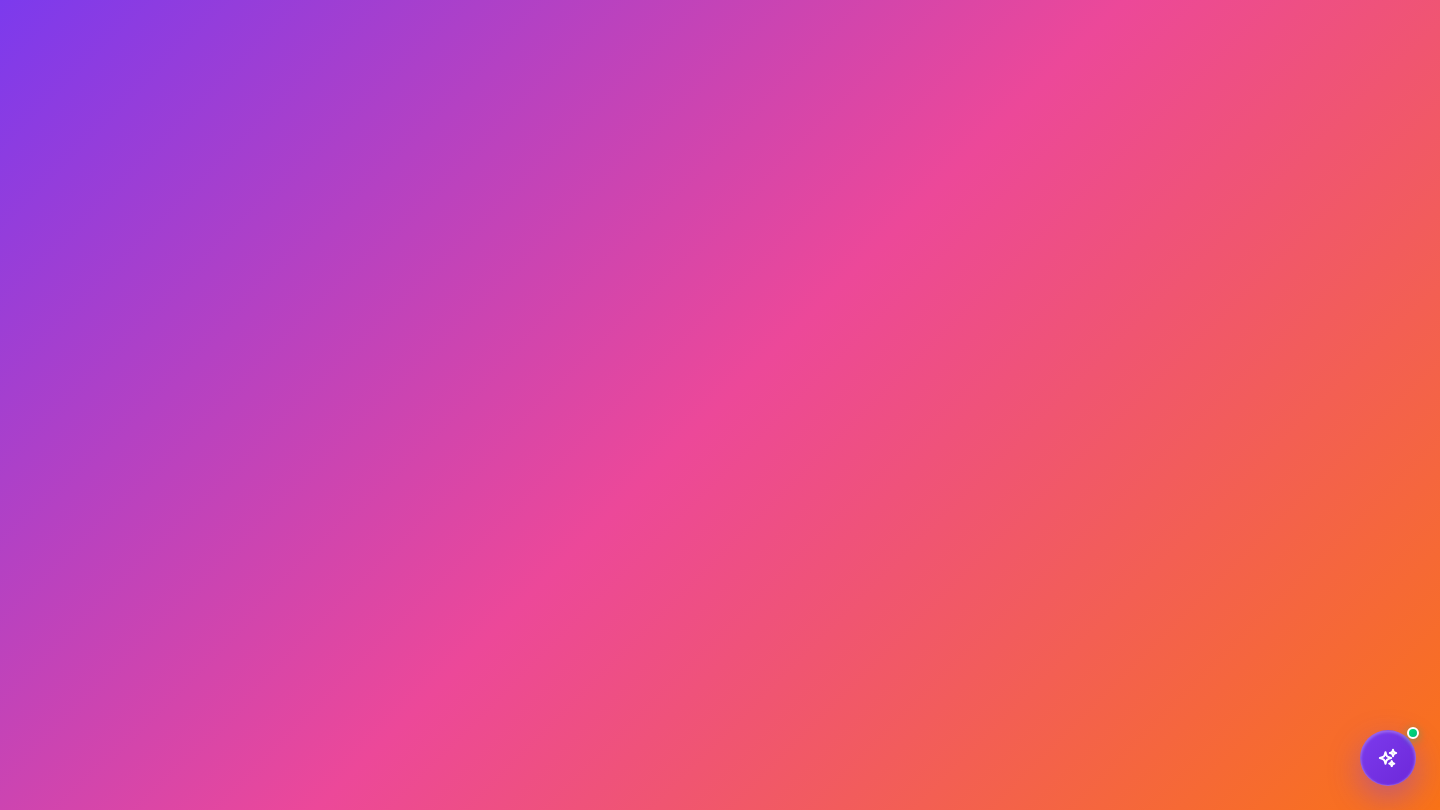
Test: ZaraAssistant › clears the input, keeps the transcript, and shows an error toast when the chat request fails
Click the button named "Toggle Zara Assistant" at (1388, 758), box [1360,730,1416,786]
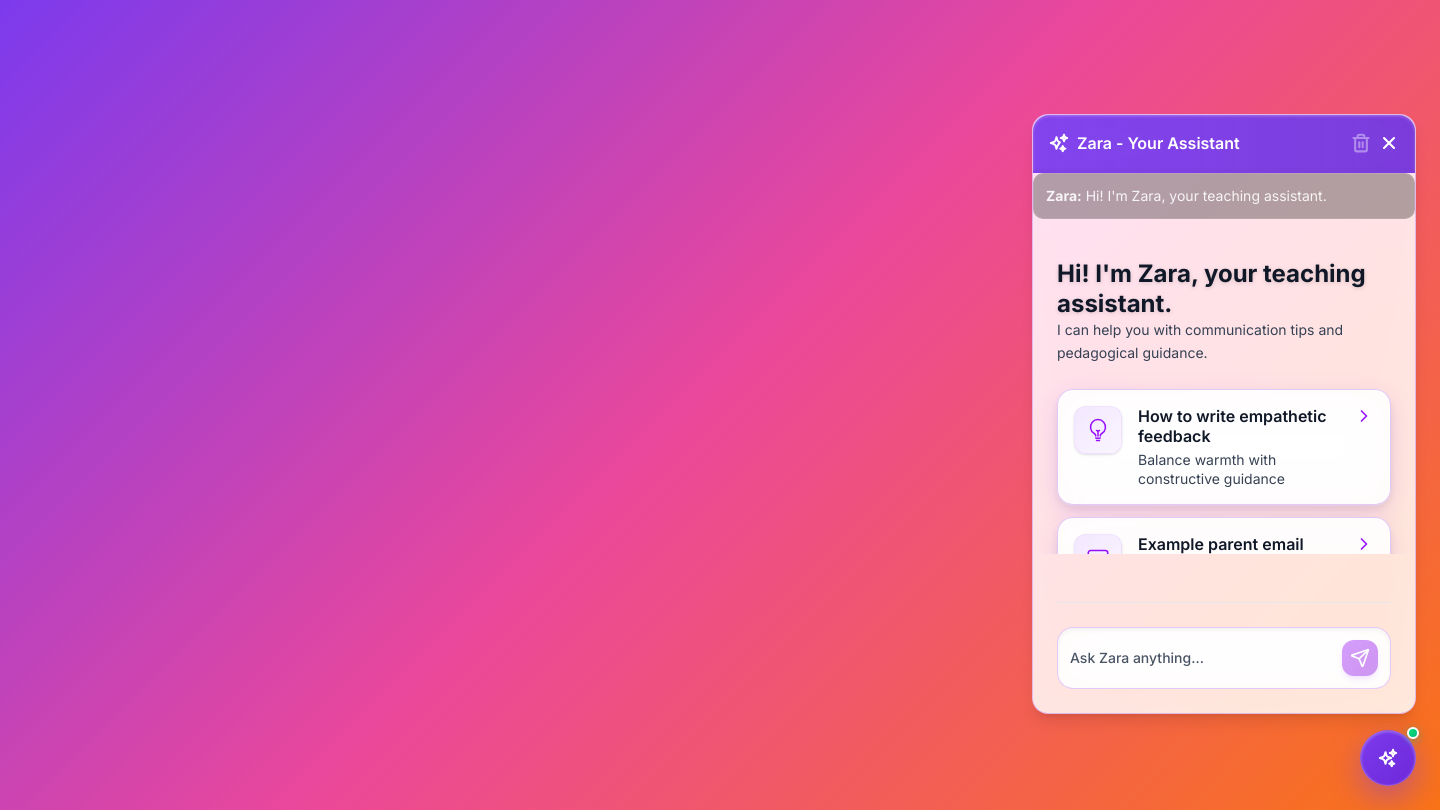
Type "Hello Zara" into the field with placeholder "Ask Zara anything..." at (1202, 658), box [1070,648,1334,668]
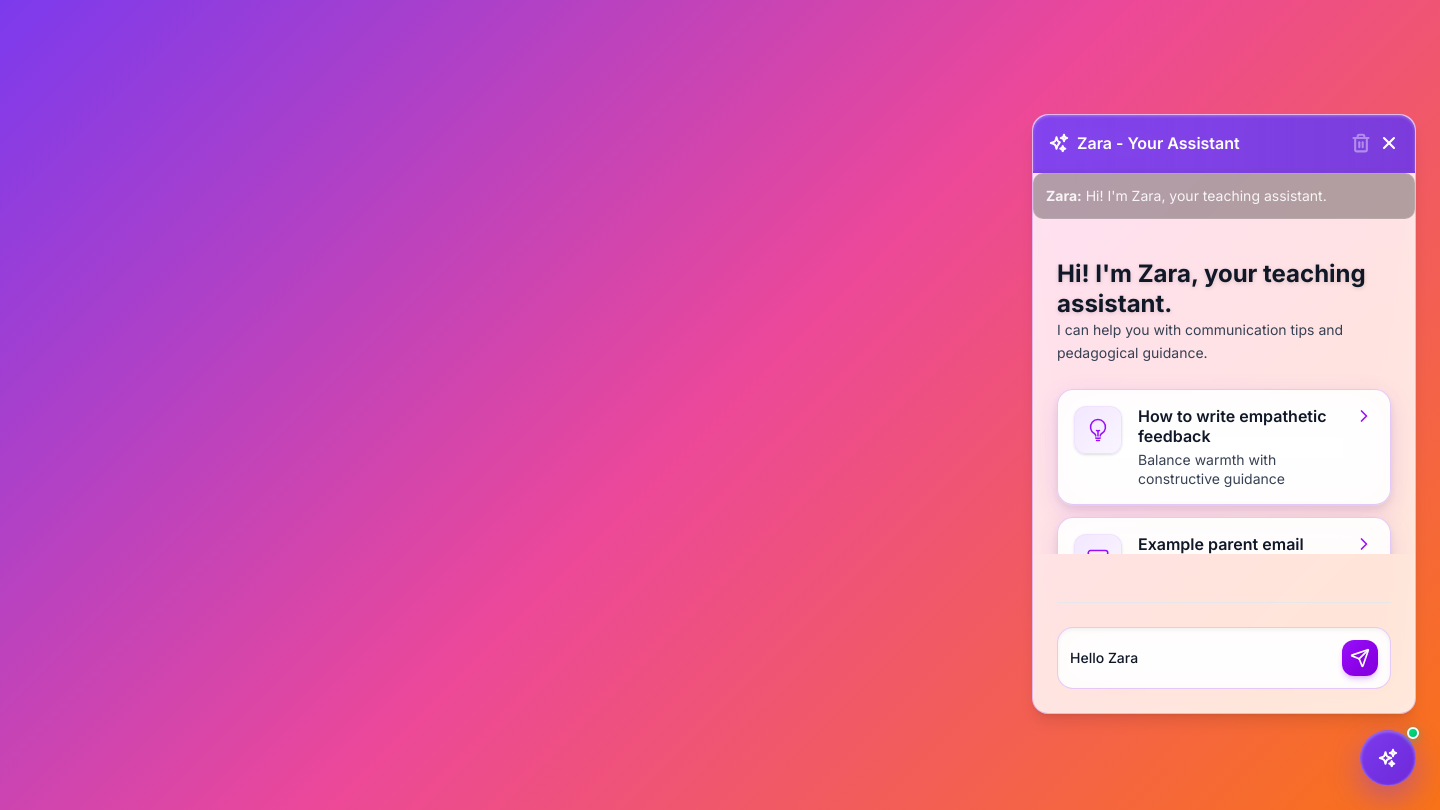
Click the button named "Send message" at (1360, 658), box [1342,640,1378,676]
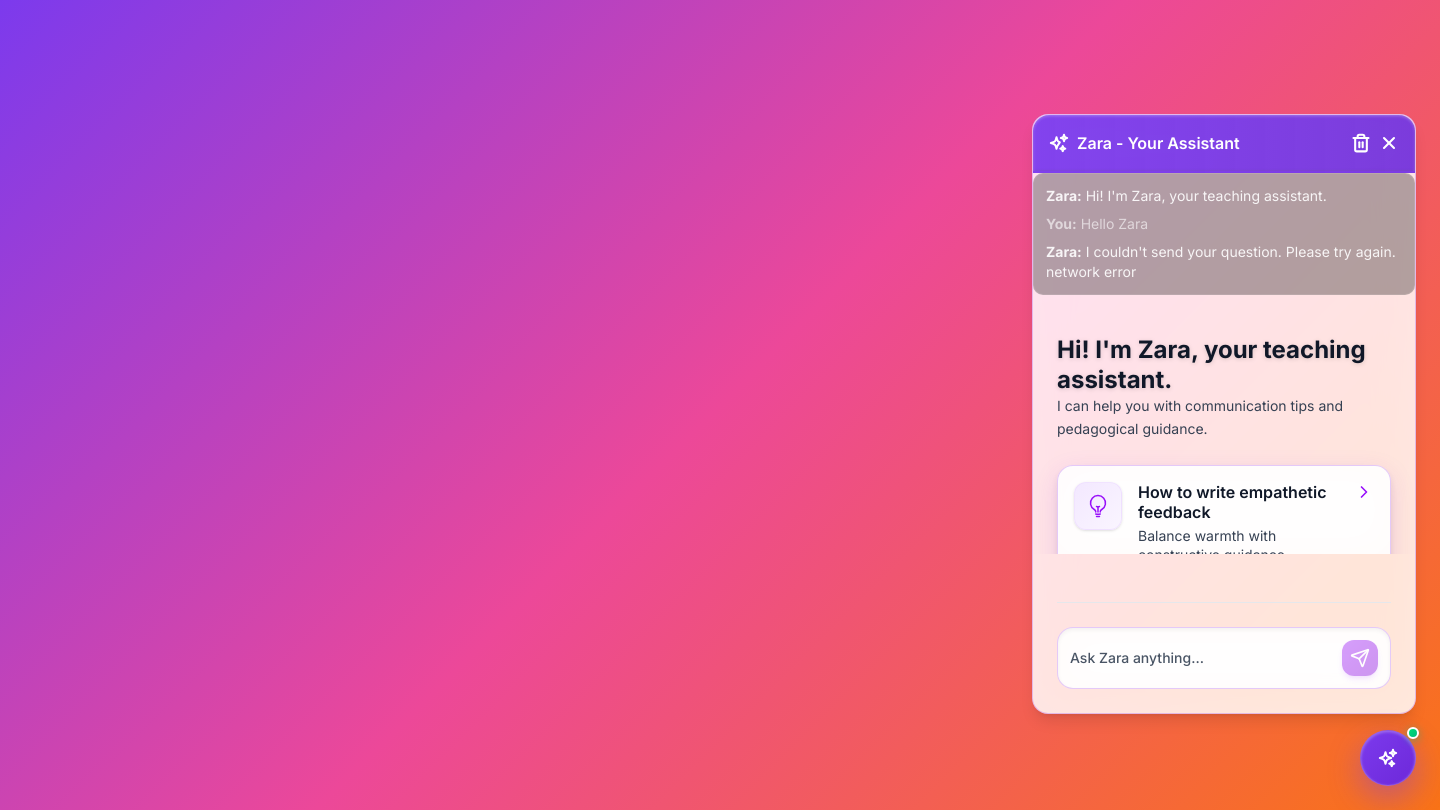
Now the field with placeholder "Ask Zara anything..." is empty, box [1070,648,1334,668]
Now the text "Hello Zara" is shown, box [1081,215,1148,232]
